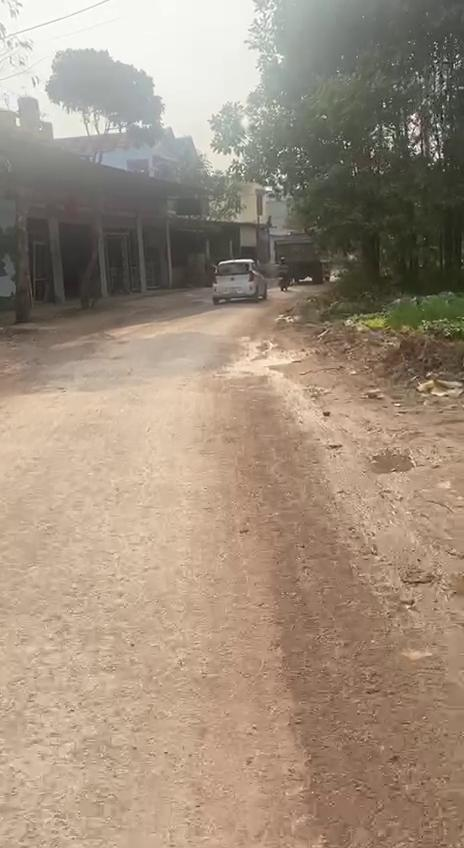pothole: (369, 441, 421, 478)
